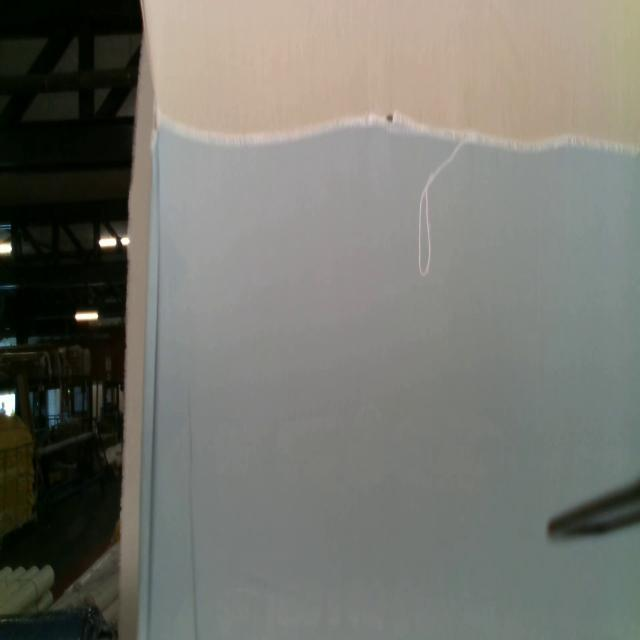crease: (186, 388, 199, 640)
hole: (385, 112, 395, 122)
